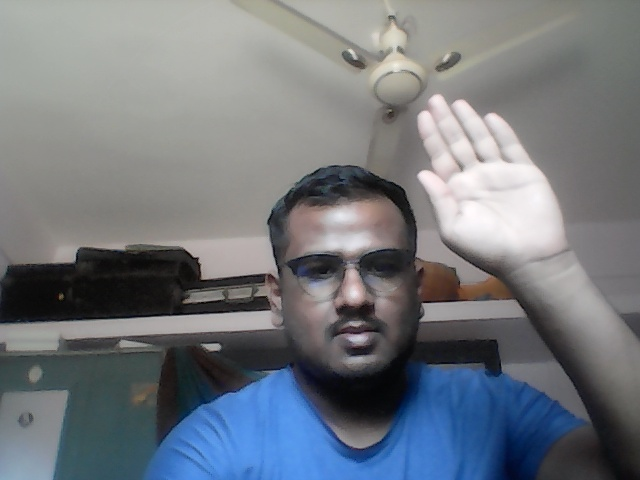Hello: (414, 90, 577, 263)
